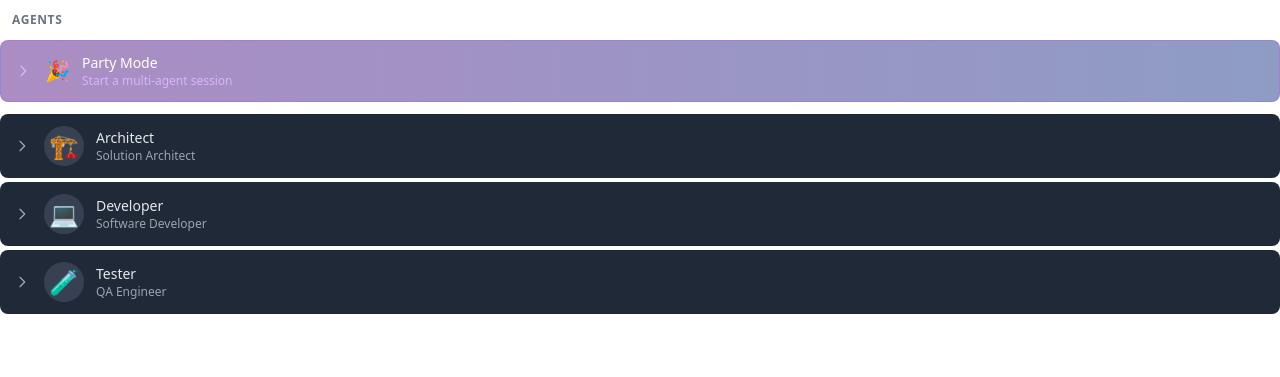
Test: AgentRoster › agent selection › shows success feedback after spawning
The width and height of the screenshot is (1280, 377).
Click the button "🏗️ Architect Solution Architect". click: (64, 146)
box: [44,126,1268,166]
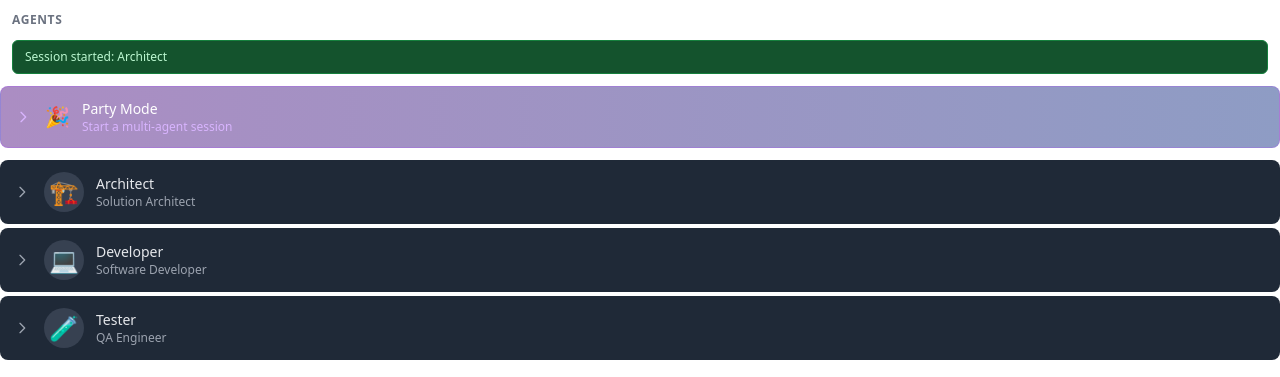
expect the text "Session started: Architect" is shown: met, box [12,40,1268,74]
